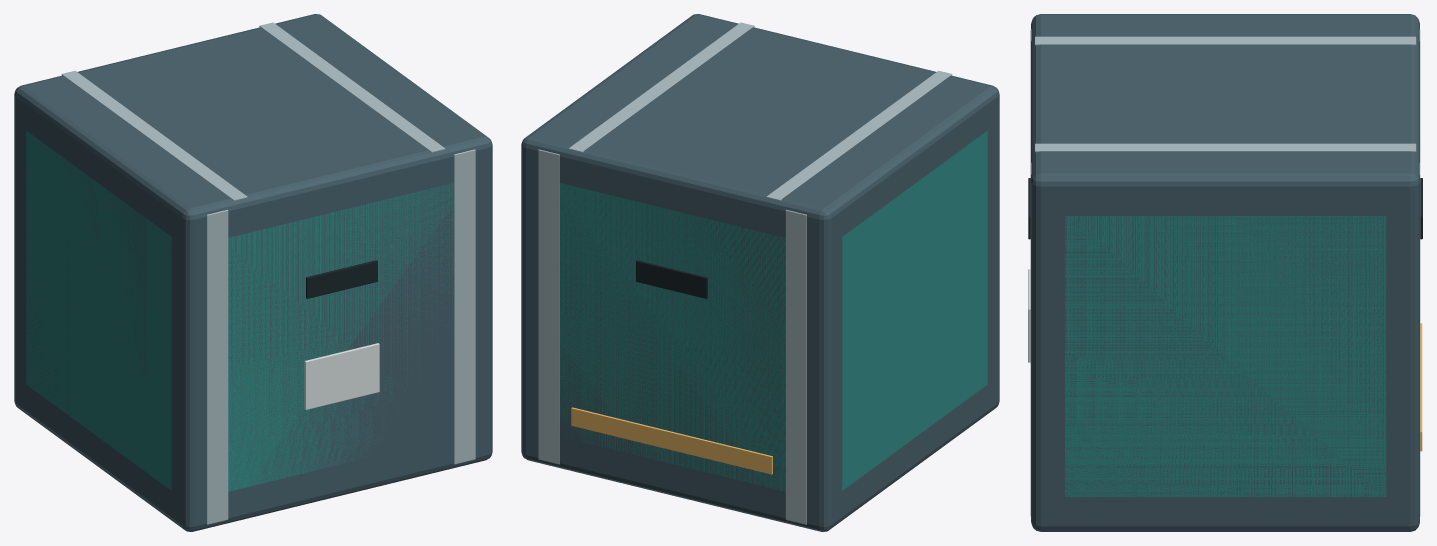
The model's file is lab-crate.glb.
3 views of the same model, side by side, from view 1: azimuth 30°, elevation 25°; view 2: azimuth 150°, elevation 25°; view 3: azimuth 270°, elevation 25° (orthographic). The views are drawn at different scales.
Visible parts, largest first — view 1: Transport case.003, Side panel.003, Corner protection.003, Asset label.003, Handle.003; view 2: Transport case.003, Side panel.003, Corner protection.003, Safety band.003, Handle.003; view 3: Transport case.003, Side panel.003, Corner protection.003.
Boxes of the visible parts, <box> form: Transport case.003: <box>14,14,492,531</box>; Side panel.003: <box>26,131,454,491</box>; Corner protection.003: <box>61,22,475,524</box>; Asset label.003: <box>304,343,379,409</box>; Handle.003: <box>306,260,377,298</box>; Transport case.003: <box>521,14,999,531</box>; Side panel.003: <box>559,131,987,491</box>; Corner protection.003: <box>538,22,952,524</box>; Safety band.003: <box>571,407,772,474</box>; Handle.003: <box>636,260,707,298</box>; Transport case.003: <box>1031,14,1419,531</box>; Side panel.003: <box>1065,216,1386,496</box>; Corner protection.003: <box>1030,29,1420,516</box>.
Bounding box in the file's own units: 1 × 1 × 1.
